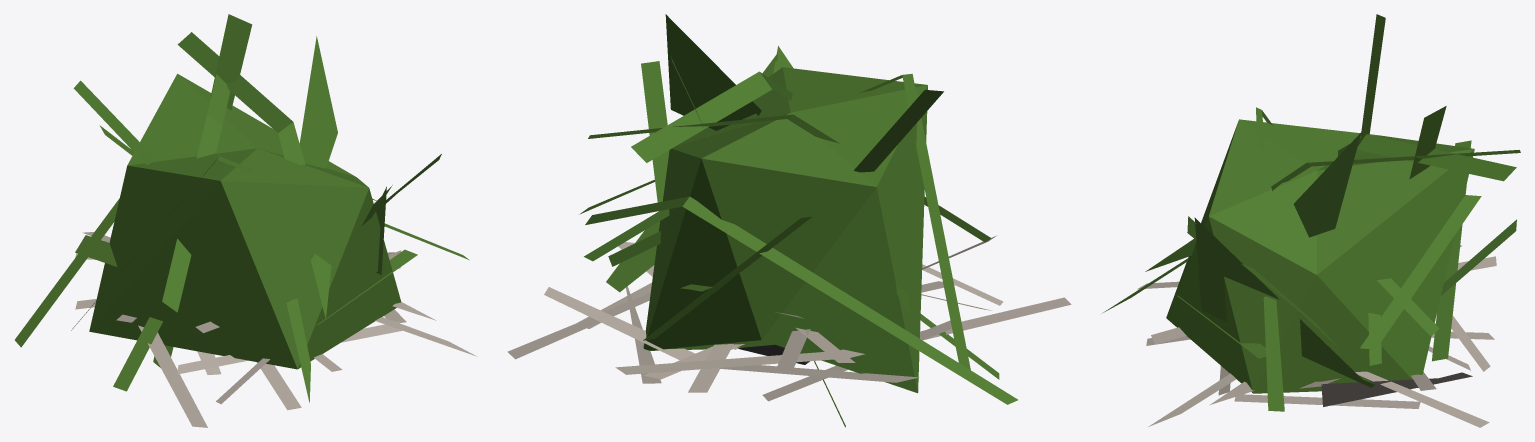
The model's file is reProps.glb.
3 renders of one model, left to right at view 1: azimuth 30°, elevation 25°; view 2: azimuth 150°, elevation 25°; view 3: azimuth 270°, elevation 25°, orthographic. The views are drawn at different scales.
Parts seen in each view (by area): view 1: Bush, Net; view 2: Bush, Net; view 3: Bush, Net.
Boxes of the visible parts, x1,y1,x2,y2 form: Bush: (15, 14, 469, 402); Net: (75, 232, 477, 427); Bush: (579, 14, 1017, 427); Net: (507, 235, 1071, 401); Bush: (1103, 14, 1520, 411); Net: (1137, 245, 1496, 427).
Size of the model in its own units: 2.57 by 1.86 by 2.26.
